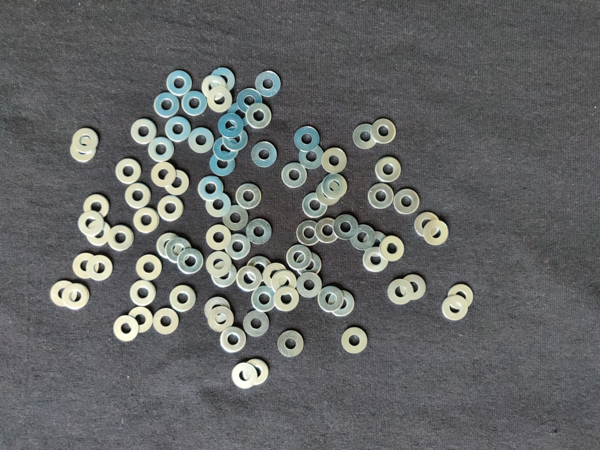circle: (235, 181, 264, 211), (373, 154, 402, 183), (371, 116, 399, 145), (255, 70, 284, 98), (205, 191, 233, 220), (50, 278, 78, 307), (401, 273, 428, 303), (263, 261, 290, 291), (204, 251, 234, 278), (349, 223, 377, 251), (280, 161, 308, 189), (251, 140, 279, 168), (197, 174, 225, 202), (277, 330, 305, 358), (220, 326, 248, 354), (186, 127, 214, 155), (362, 247, 391, 274), (322, 146, 349, 175), (341, 326, 368, 355), (71, 126, 100, 153), (124, 183, 153, 210), (157, 195, 186, 222), (126, 307, 155, 334), (246, 215, 272, 245), (299, 143, 327, 170), (222, 205, 249, 233), (225, 233, 252, 261), (204, 224, 232, 251), (243, 359, 270, 387), (166, 69, 193, 97), (164, 116, 191, 144), (130, 118, 158, 145), (108, 225, 135, 253), (414, 209, 440, 238), (296, 273, 325, 299), (244, 310, 270, 339), (211, 261, 237, 290), (69, 137, 98, 163), (156, 232, 185, 258), (170, 285, 196, 314), (154, 307, 180, 336), (128, 280, 157, 306), (113, 314, 139, 343), (387, 279, 414, 306), (352, 122, 379, 149), (246, 103, 273, 130), (204, 296, 231, 323), (115, 158, 142, 185), (73, 252, 100, 279), (449, 284, 477, 310), (362, 232, 390, 258), (286, 244, 312, 272), (318, 284, 344, 312), (208, 150, 236, 176), (247, 255, 273, 283), (208, 307, 236, 333), (232, 362, 258, 390), (423, 221, 452, 246), (366, 184, 395, 209), (380, 233, 405, 262), (297, 219, 321, 249), (331, 289, 355, 319), (442, 295, 469, 321), (395, 188, 421, 215), (322, 173, 349, 199), (295, 252, 322, 278), (228, 100, 254, 127), (222, 124, 249, 150), (212, 135, 239, 161), (133, 208, 160, 234), (166, 237, 193, 263), (88, 255, 114, 282), (148, 136, 176, 161), (77, 212, 105, 237), (294, 126, 320, 152), (236, 267, 262, 293), (211, 66, 237, 92), (208, 87, 234, 113), (332, 215, 359, 240), (316, 181, 343, 206), (183, 90, 208, 117), (165, 169, 190, 196), (179, 249, 204, 276), (135, 255, 162, 280), (63, 284, 88, 311), (301, 192, 329, 216), (251, 288, 277, 313), (154, 92, 180, 117), (84, 195, 110, 220), (150, 163, 177, 187), (85, 223, 112, 247), (203, 74, 228, 99), (275, 286, 299, 312), (219, 113, 244, 137), (237, 89, 263, 112), (272, 271, 297, 294), (317, 218, 339, 244)
